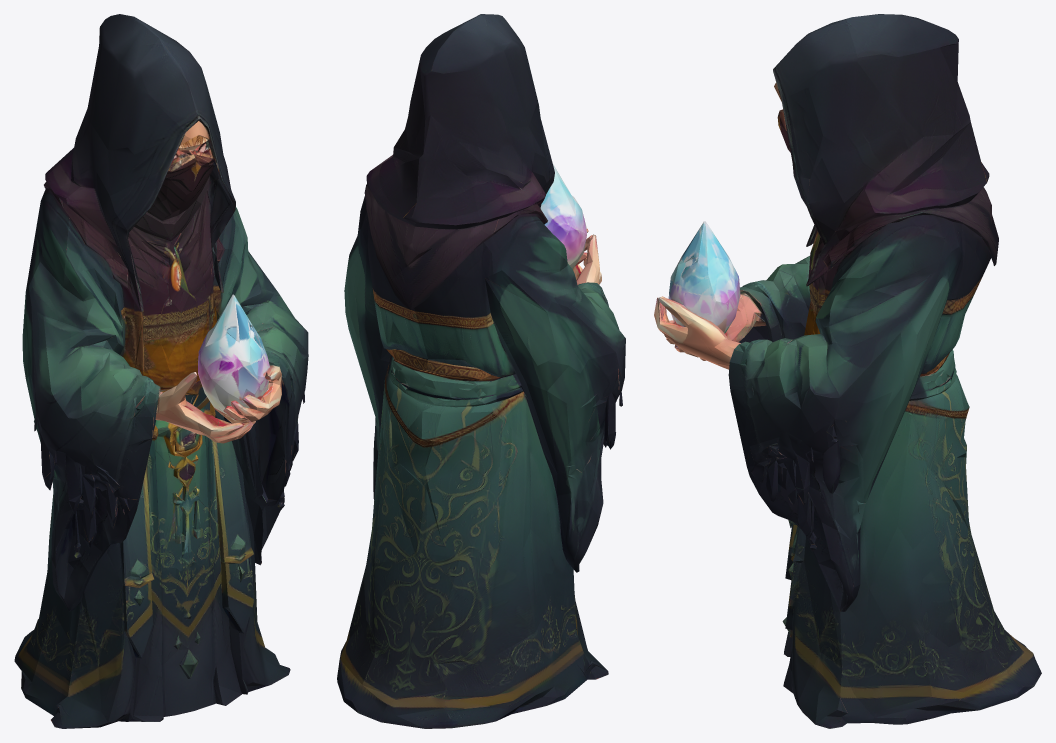
File: npc_mystic.glb
3 views of the same model, side by side, from view 1: azimuth 30°, elevation 25°; view 2: azimuth 150°, elevation 25°; view 3: azimuth 270°, elevation 25° (orthographic).
Size of the model in its own units: 0.8167 by 1.9 by 1.02.
Materials: 1 (1 with a texture image).
